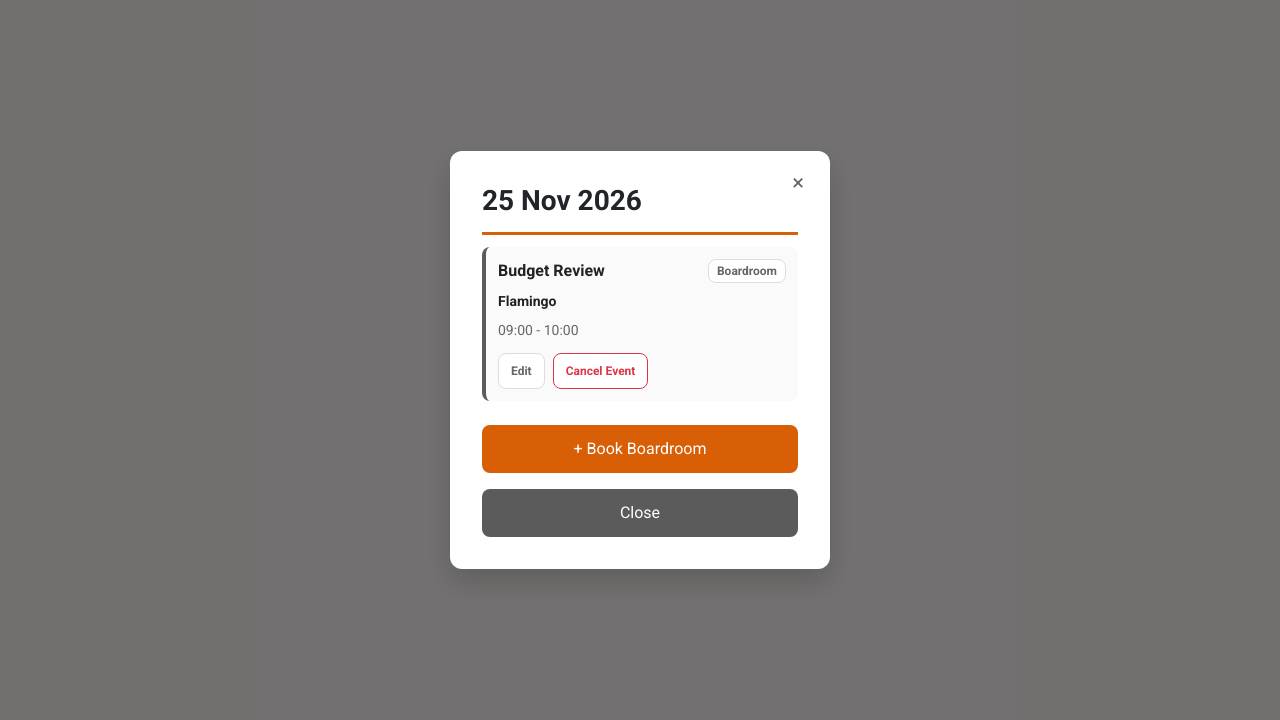
Test: DayEventsModal - admin cancellation › dismisses the inline confirmation without cancelling when the user backs out
Click the button "Cancel Event" at [600, 371], box [553,353,648,389]
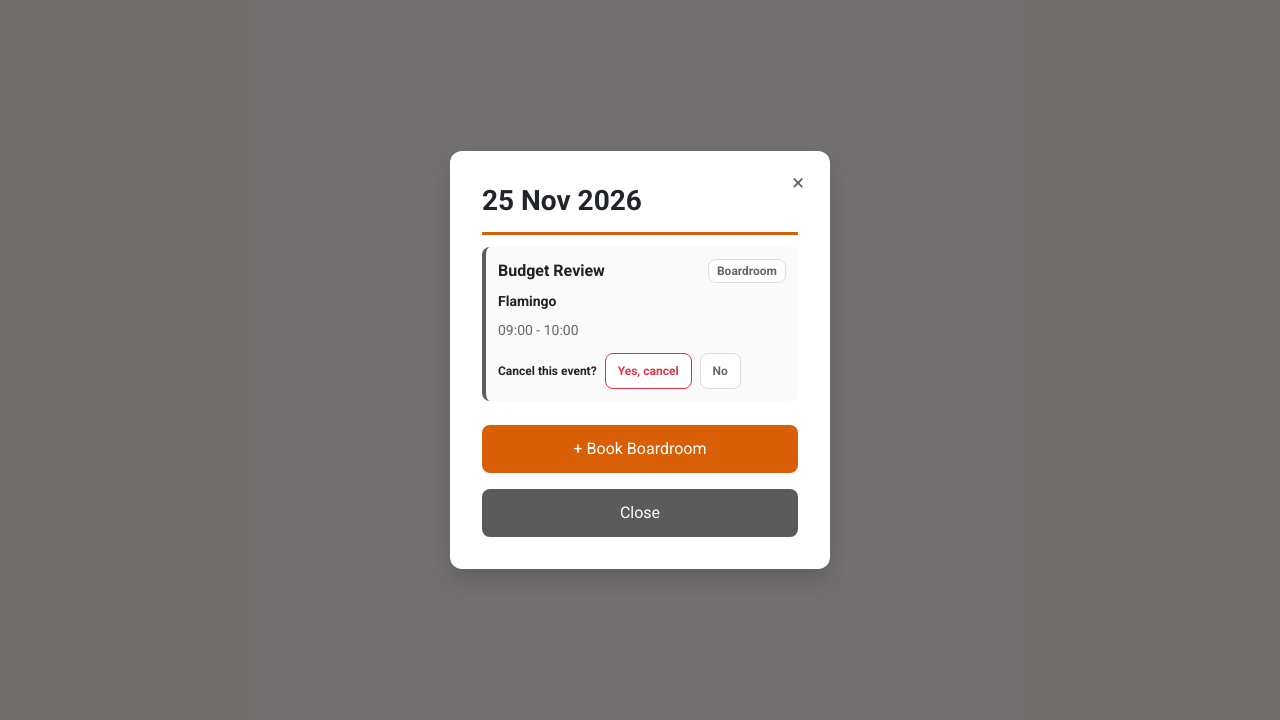
Click the button "No" at [720, 371], box [700,353,741,389]
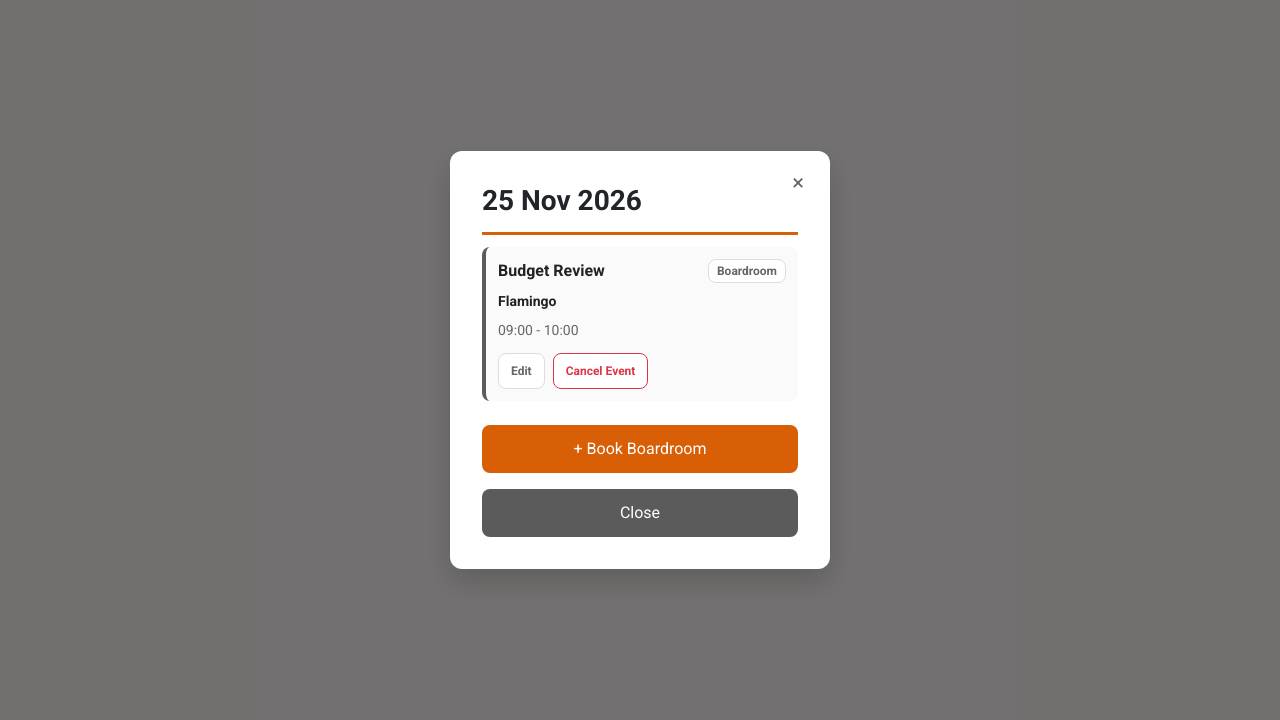
expect the button "Cancel Event" is shown: met, box [553,353,648,389]
